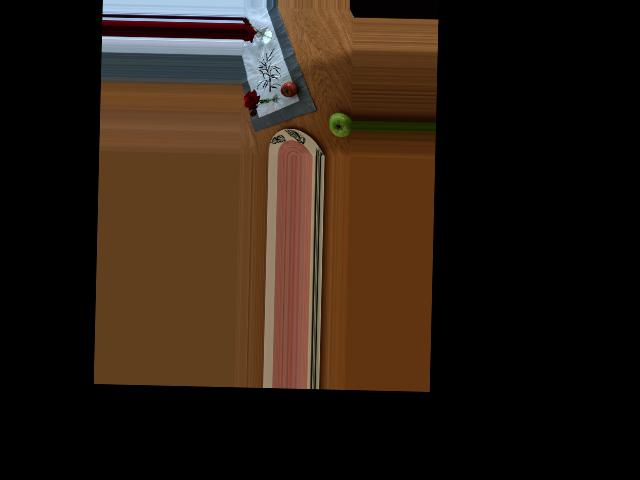apple: (327, 111, 352, 138)
